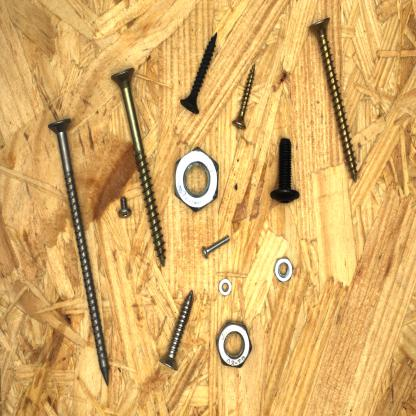screw: (44, 113, 111, 389), (107, 64, 169, 270), (306, 13, 359, 184), (178, 29, 220, 116), (156, 286, 196, 374), (269, 135, 302, 204), (229, 61, 258, 132), (200, 233, 232, 260), (116, 194, 134, 223)
